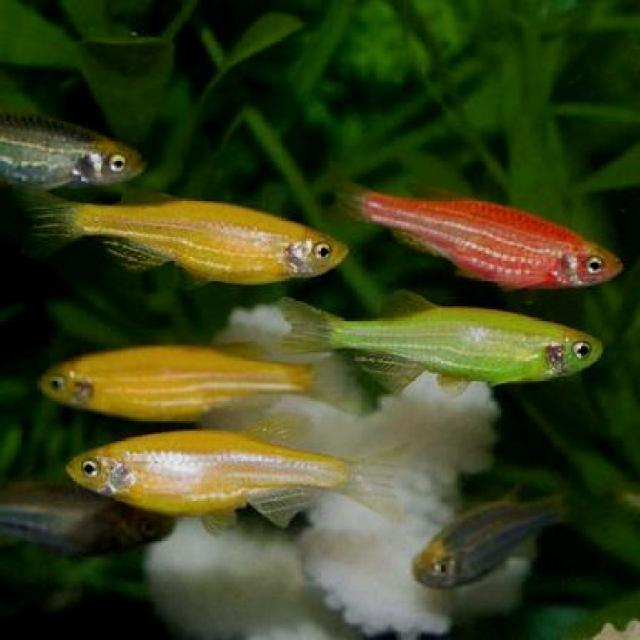ZebraFish: (18, 183, 348, 294), (334, 168, 626, 290), (66, 429, 359, 522), (286, 299, 606, 384), (32, 344, 312, 424)
